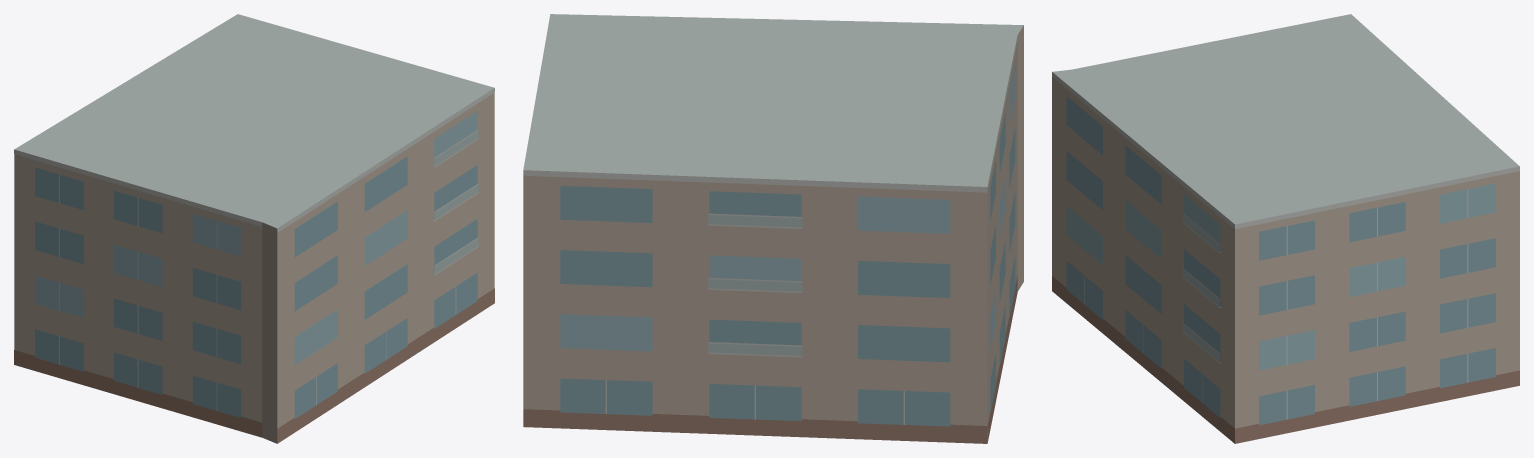
The model's file is survey-upis-32674808.glb.
3 renders of one model, left to right at view 1: azimuth 30°, elevation 25°; view 2: azimuth 150°, elevation 25°; view 3: azimuth 270°, elevation 25°, orthographic. The views are drawn at different scales.
Visible parts, largest first — view 1: survey-upis-32674808.tmp; view 2: survey-upis-32674808.tmp; view 3: survey-upis-32674808.tmp.
Boxes of the visible parts, box(x1,y1,x2,y2) form: survey-upis-32674808.tmp: box(14, 14, 494, 443); survey-upis-32674808.tmp: box(523, 14, 1023, 443); survey-upis-32674808.tmp: box(1052, 14, 1519, 443).
Size of the model in its own units: 23.27 by 11.3 by 21.84.
